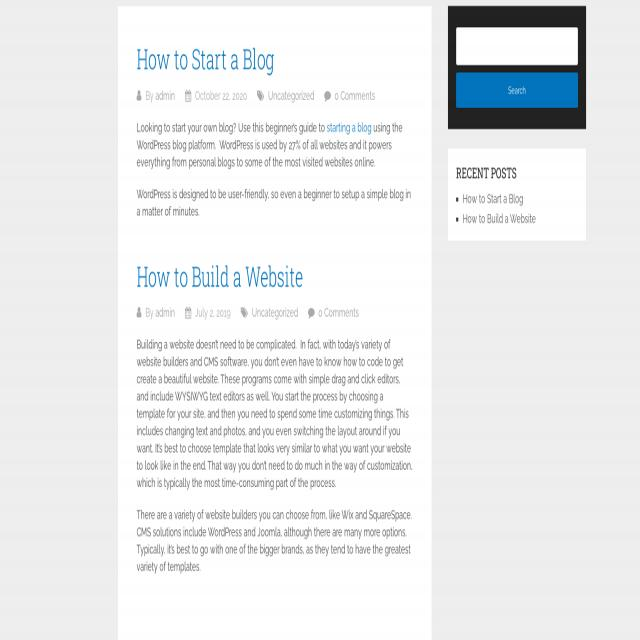field: (456, 27, 578, 65), (456, 72, 578, 108)
